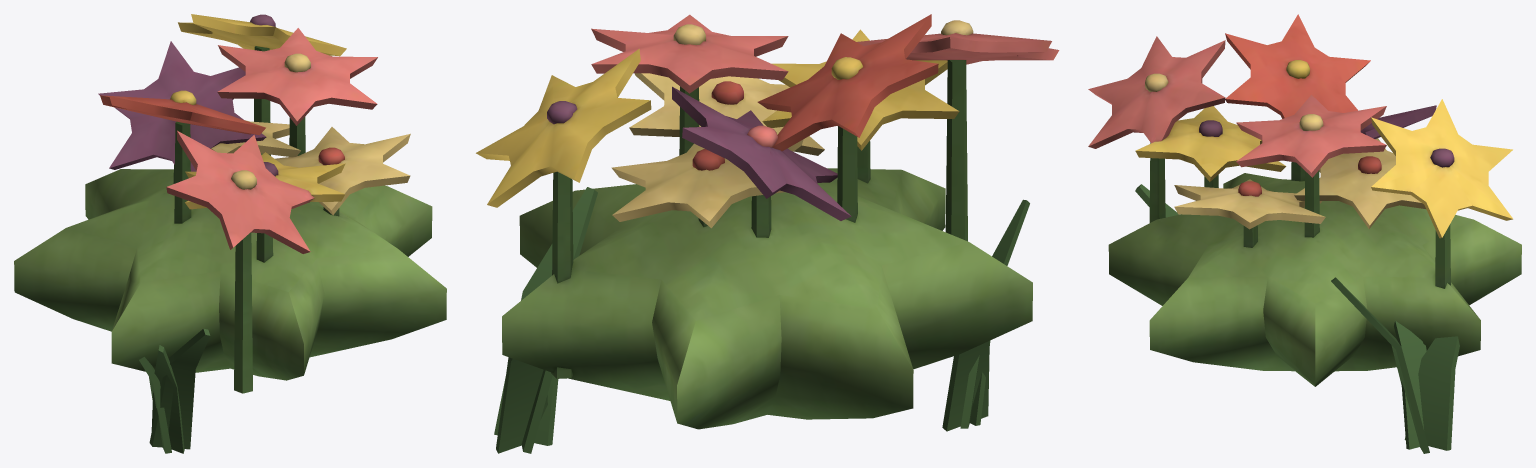
File: blossom.glb
3 views of the same model, side by side, from view 1: azimuth 30°, elevation 25°; view 2: azimuth 150°, elevation 25°; view 3: azimuth 270°, elevation 25° (orthographic). The views are drawn at different scales.
Visible parts, largest first — view 1: Blossom, v_blossom_f_grass_deep; view 2: Blossom, v_blossom_f_grass_deep; view 3: Blossom, v_blossom_f_grass_deep.
Boxes of the visible parts, left/top/right/bottom form: Blossom: left=14, top=14, right=446, bottom=393; v_blossom_f_grass_deep: left=139, top=328, right=210, bottom=453; Blossom: left=476, top=14, right=1059, bottom=429; v_blossom_f_grass_deep: left=494, top=187, right=1029, bottom=453; Blossom: left=1088, top=14, right=1521, bottom=386; v_blossom_f_grass_deep: left=1135, top=184, right=1459, bottom=453.
Size of the model in its own units: 0.4378 by 0.3719 by 0.4716.
2 materials, 1 textured.
